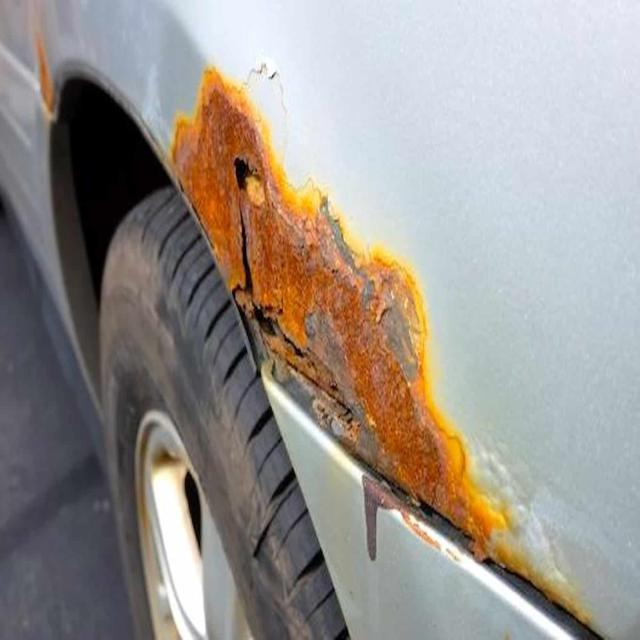Uniform Corrosion: (169, 68, 588, 619)
